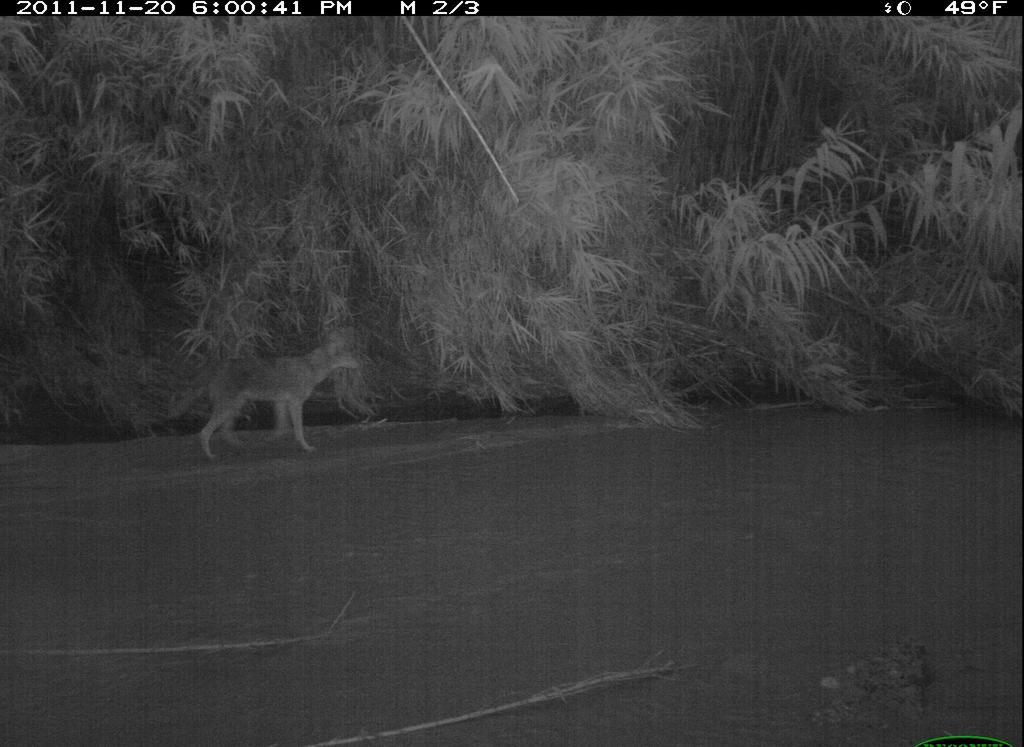coyote: (169, 328, 364, 465)
